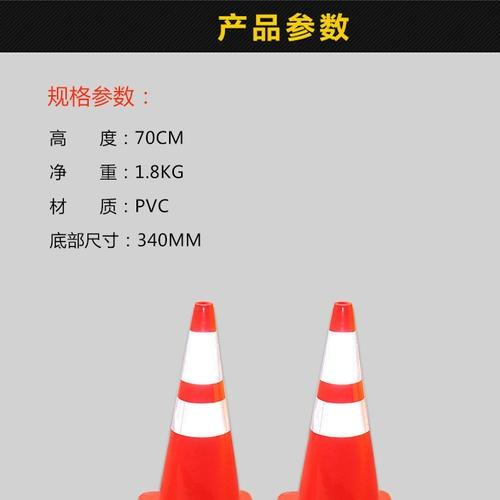cone_barrel: (285, 307, 388, 495), (145, 306, 247, 494)
